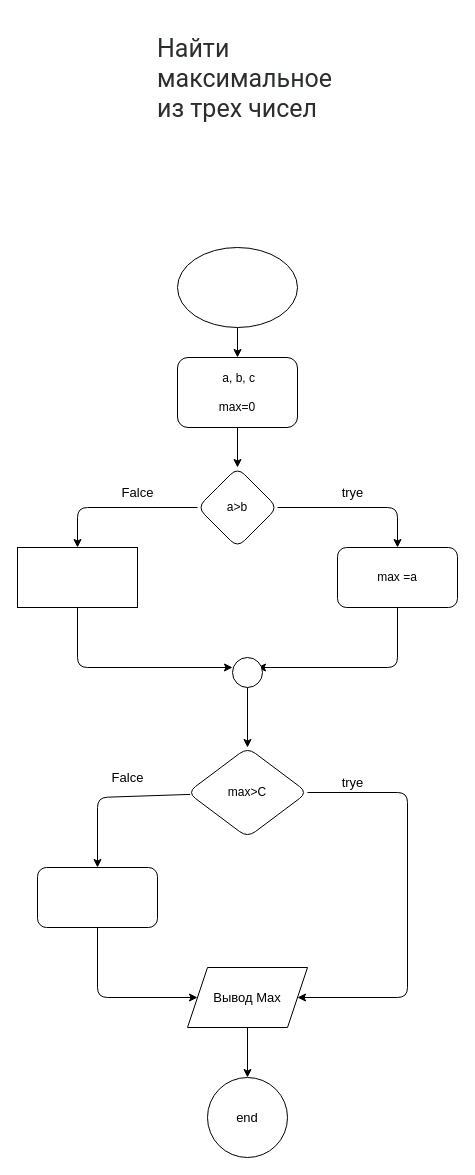
This 475x1175 diagram has some shape labels left out. Here are the shapes that lost their labels. From the top down, the centre of each, then its label:
At [237,287]: "Start".
At [77,577]: "max = b".
At [97,897]: "MAX= C".
